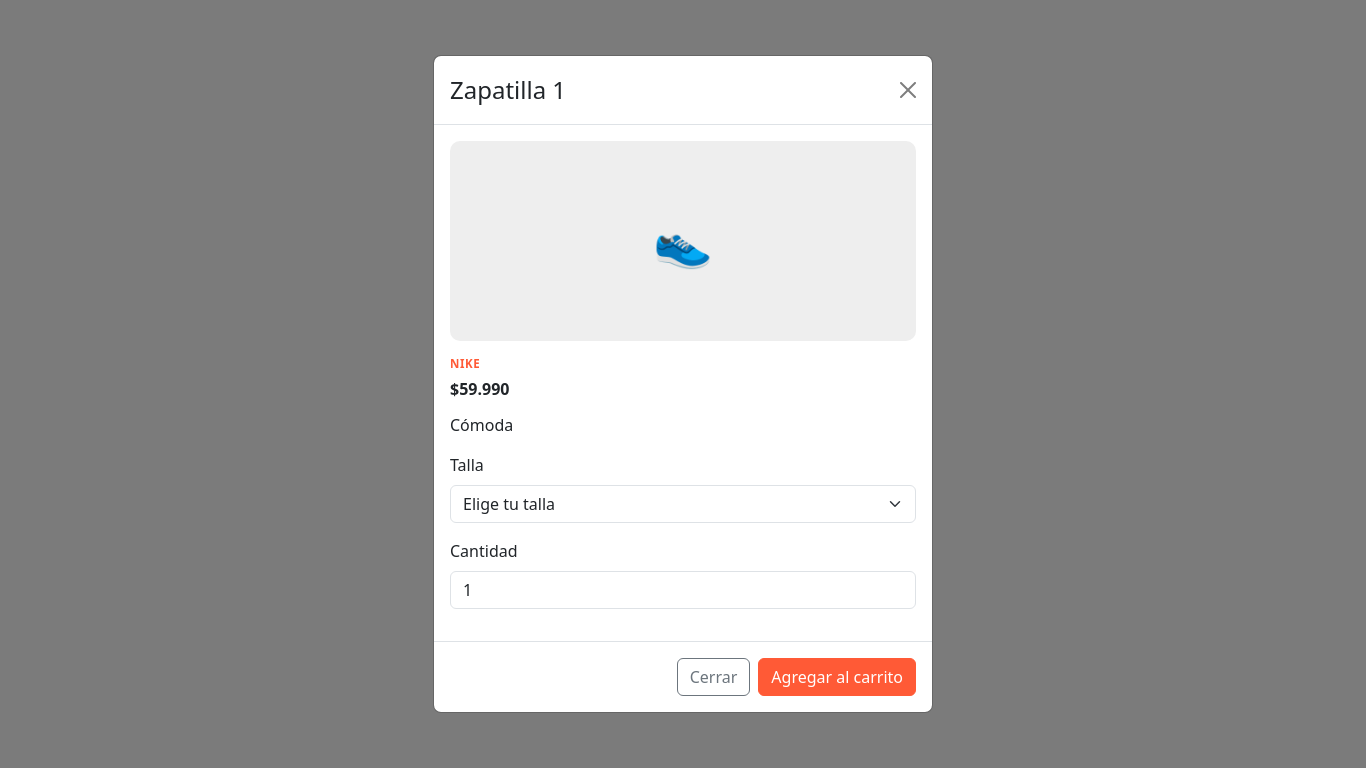
Test: ProductDetailModal › pide seleccionar una talla antes de agregar al carrito
The width and height of the screenshot is (1366, 768).
Click the button "Agregar al carrito" at (837, 677), box [758,658,916,696]
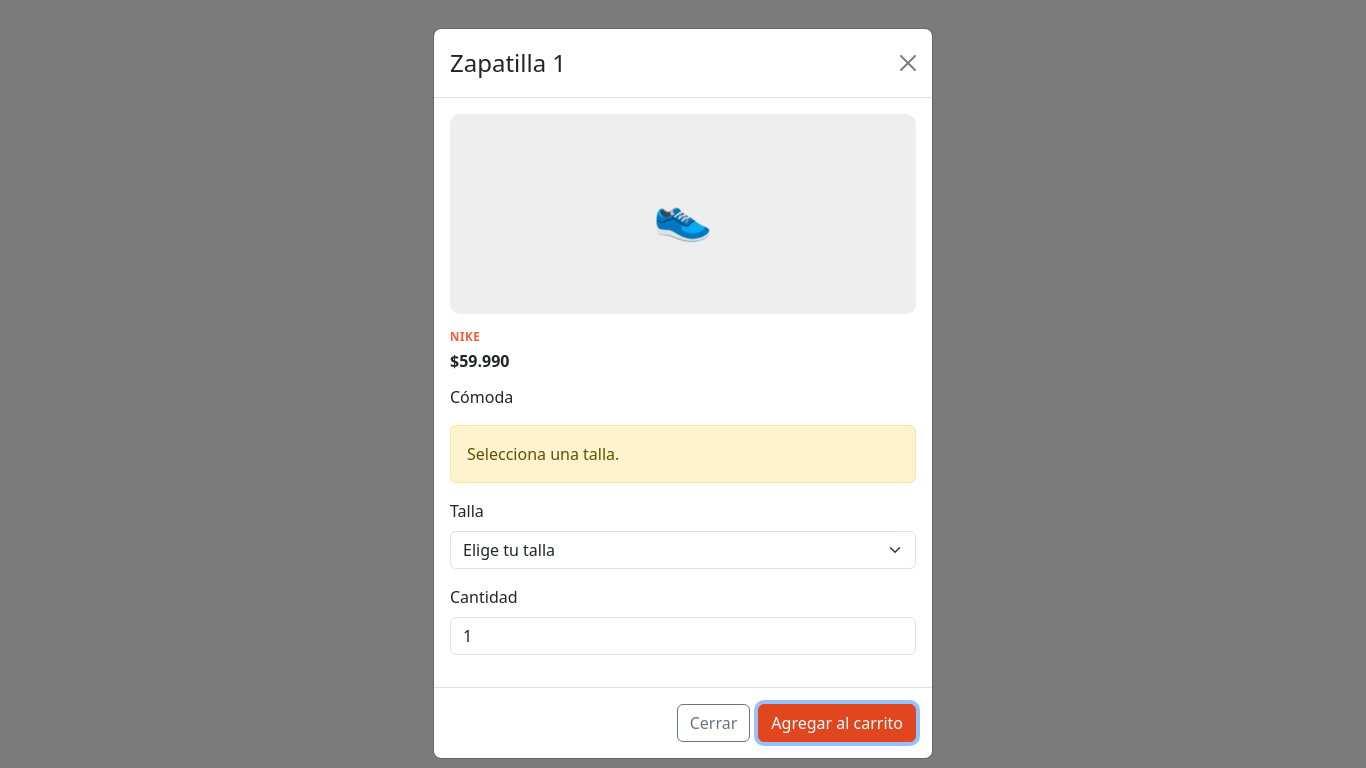
Expected: the text "Selecciona una talla." is shown, [450,425,916,483]
